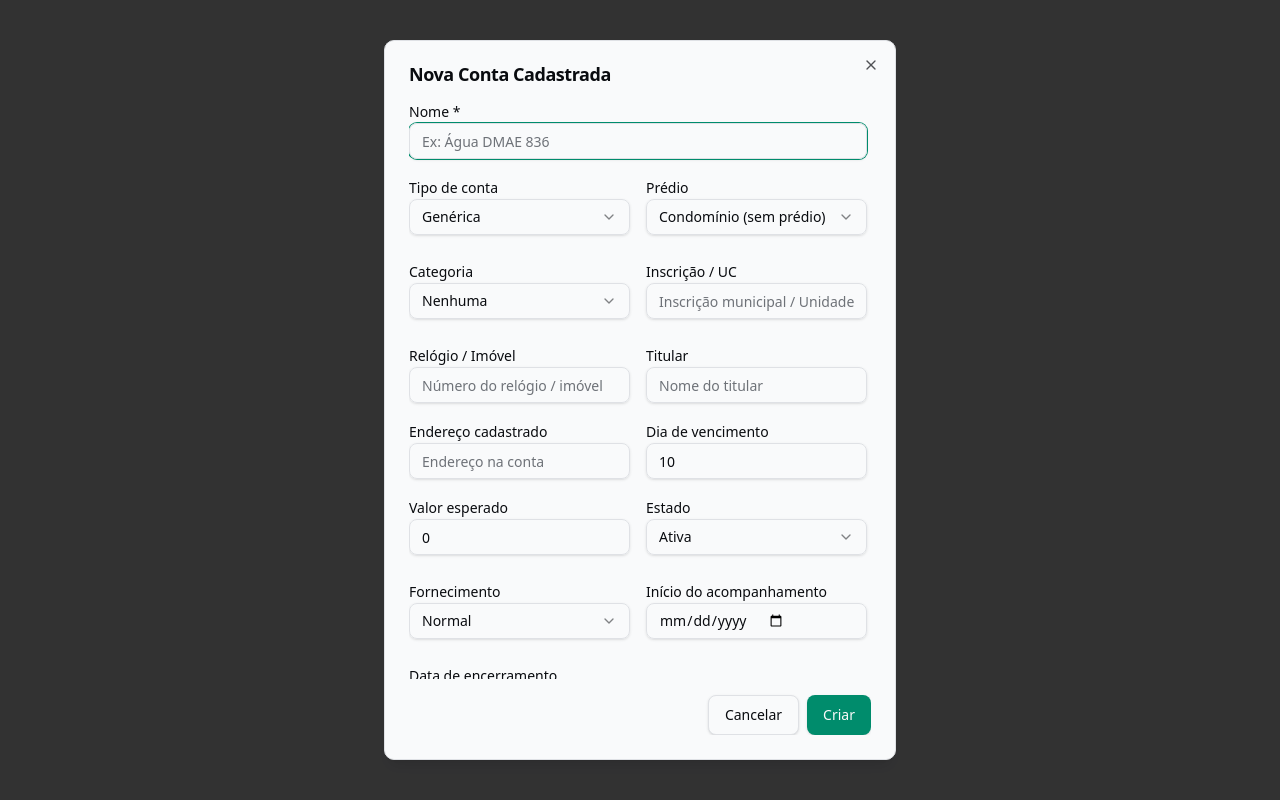
Test: AccountFormModal › valida default_due_day fora de 1–31
Type "Conta X" into the field with placeholder "Ex: Água DMAE 836" at (638, 141), box [409,123,867,159]
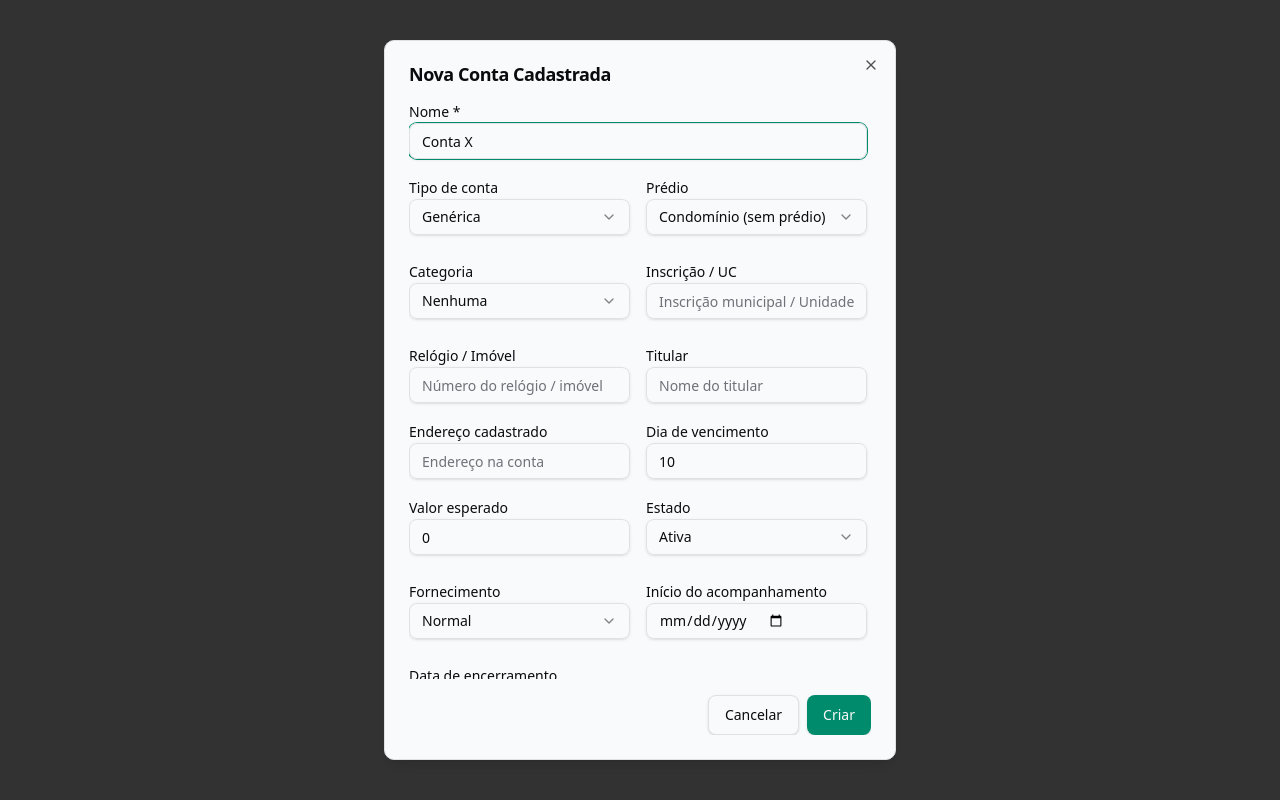
Replace the text in the number field labelled "Dia de vencimento" with "32" at (756, 461), box [646,443,867,479]
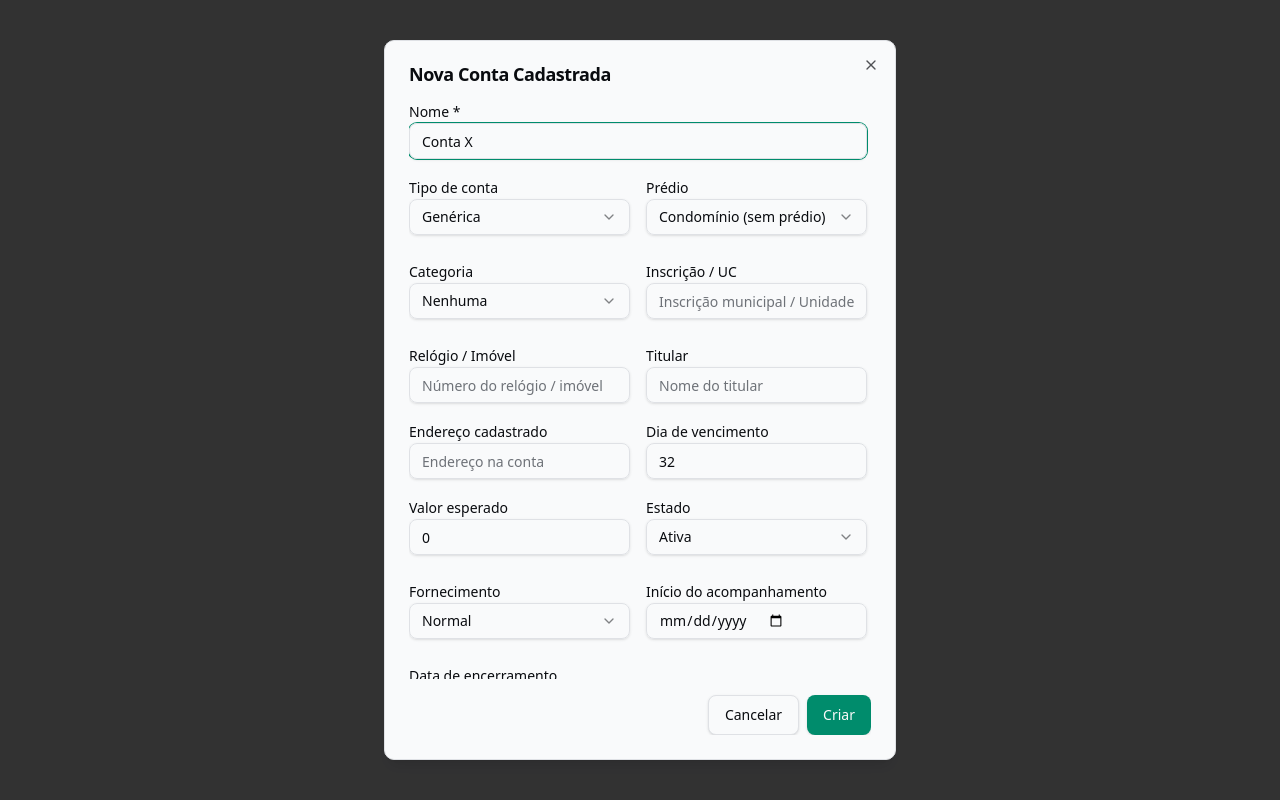
Click the button "Criar" at (839, 715), box [807,695,871,735]
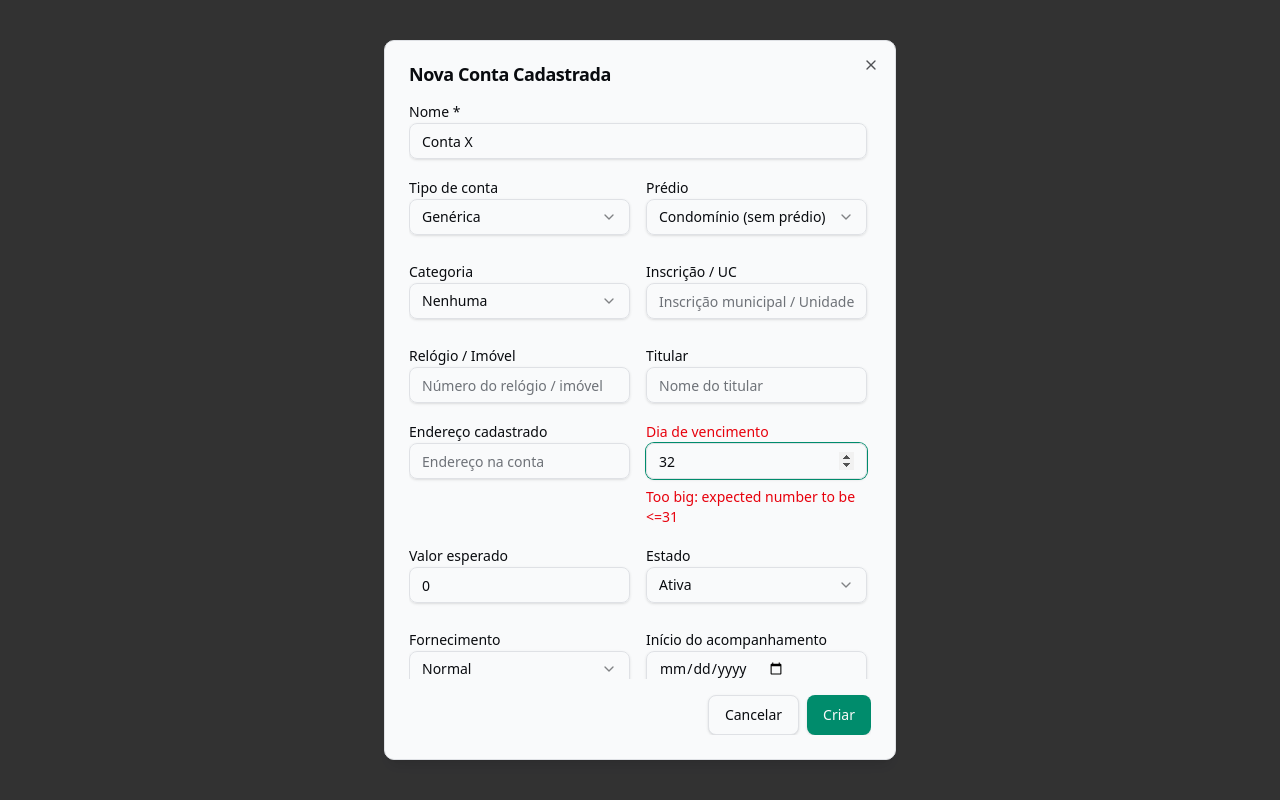
Expected: the text "Too big: expected number to be <=31" is shown, [646,487,867,527]
